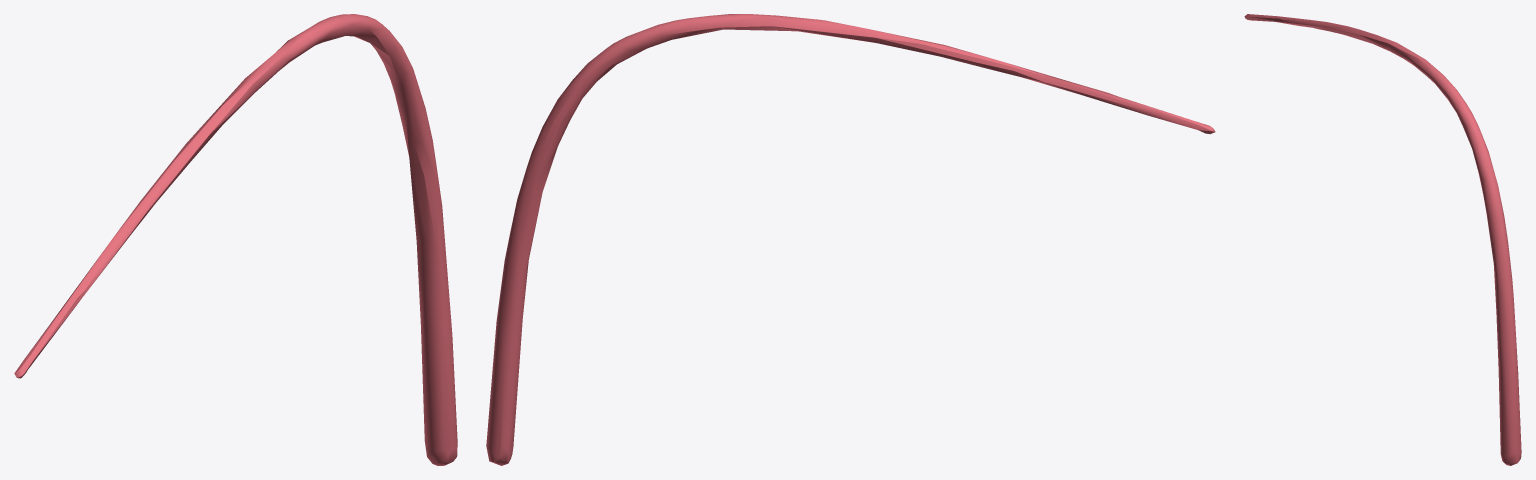
File: fma49508_fj5100.glb
3 views of the same model, side by side, from view 1: azimuth 30°, elevation 25°; view 2: azimuth 150°, elevation 25°; view 3: azimuth 270°, elevation 25° (orthographic). The views are drawn at different scales.
Parts seen in each view (by area): view 1: FMA49508_FJ5100; view 2: FMA49508_FJ5100; view 3: FMA49508_FJ5100.
Boxes of the visible parts, <box> form: FMA49508_FJ5100: <box>14,14,457,465</box>; FMA49508_FJ5100: <box>486,14,1215,465</box>; FMA49508_FJ5100: <box>1244,14,1521,465</box>.
Bounding box in the file's own units: 0.0218 × 0.017 × 0.0127.
